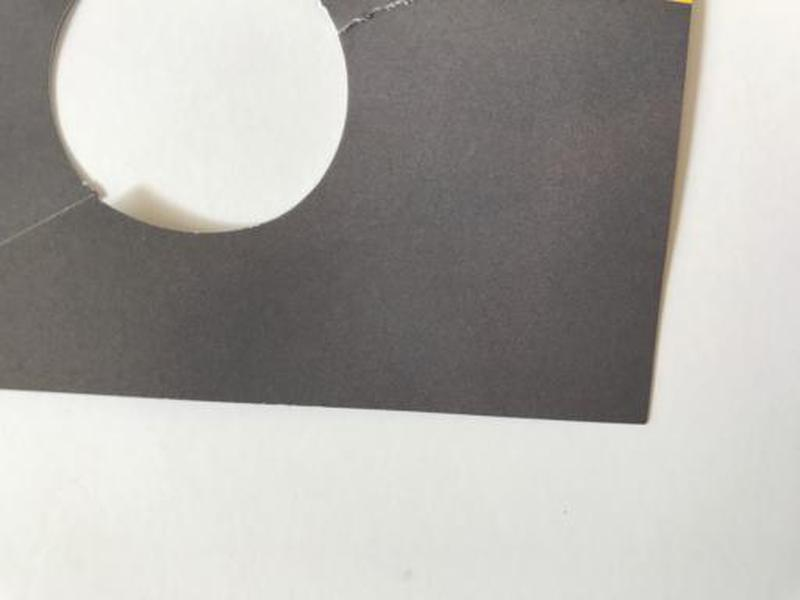paper: (1, 1, 695, 428)
